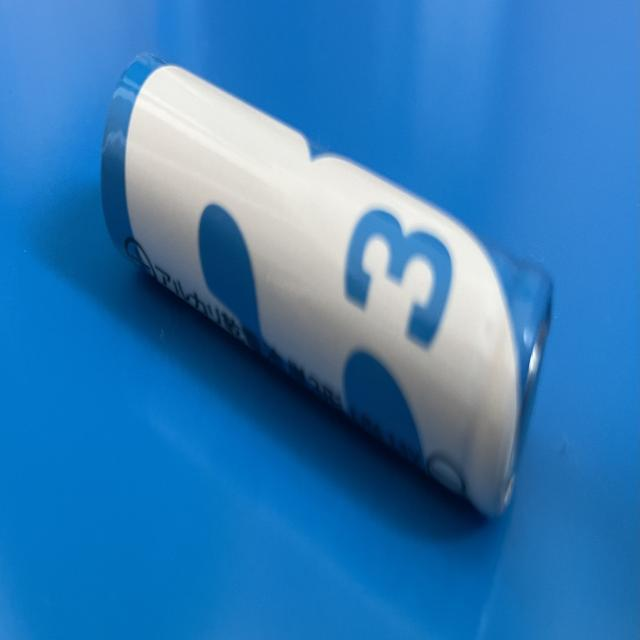AA: (98, 47, 556, 530)
